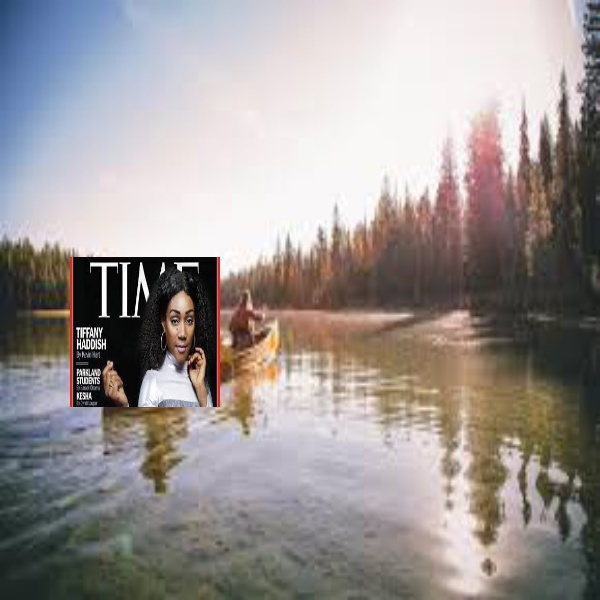time_cover: (65, 245, 228, 410)
